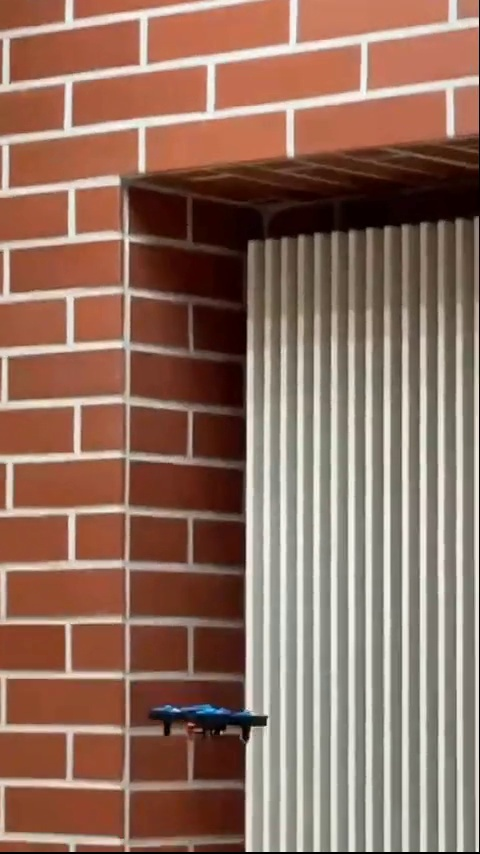drone: (147, 696, 270, 748)
